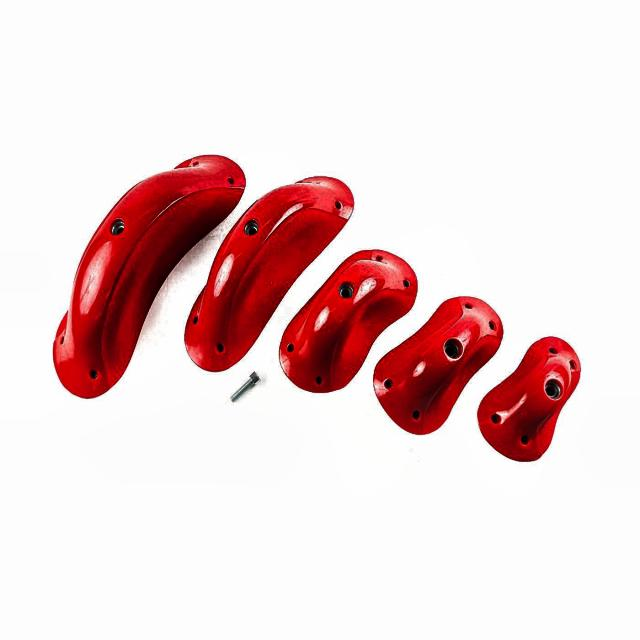Hold: (49, 141, 257, 406), (176, 162, 371, 390), (275, 242, 418, 398), (375, 284, 504, 439), (478, 320, 585, 465)
